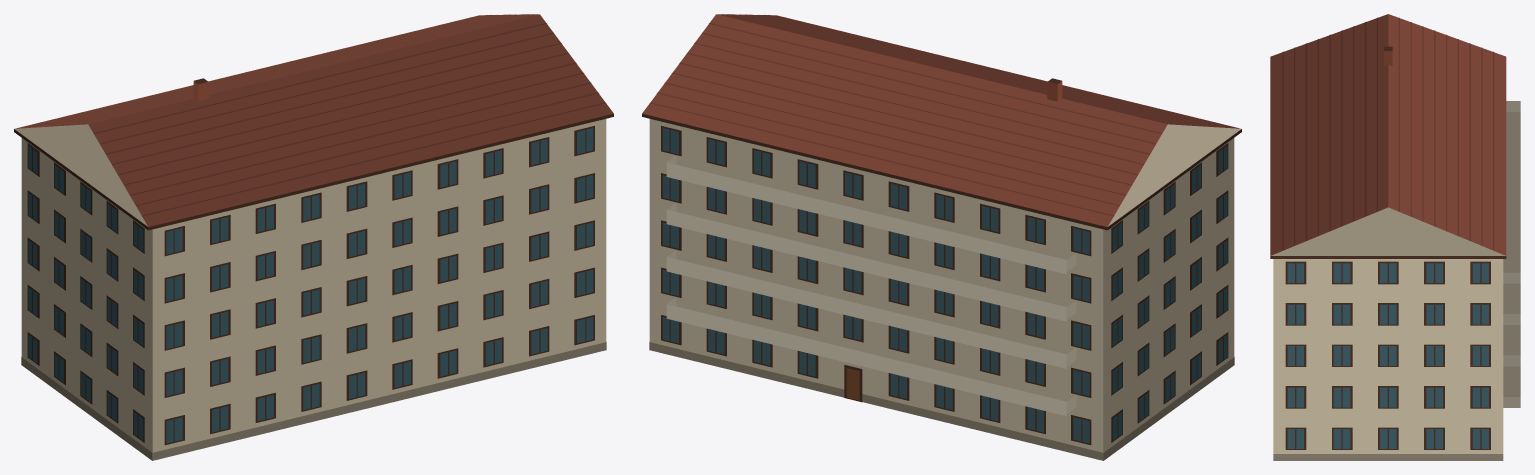
The model's file is gallery-apartments.glb.
The picture shows the model from 3 angles, left to right: view 1: azimuth 30°, elevation 25°; view 2: azimuth 150°, elevation 25°; view 3: azimuth 270°, elevation 25°; orthographic projection. The views are drawn at different scales.
Parts seen in each view (by area): view 1: Gallery apartments; view 2: Gallery apartments; view 3: Gallery apartments.
Part boxes in pixels (bbox=[...]): Gallery apartments: bbox=[14, 14, 613, 460]; Gallery apartments: bbox=[642, 14, 1241, 460]; Gallery apartments: bbox=[1270, 14, 1520, 460].
Size of the model in its own units: 32.98 by 20.57 by 17.49.
